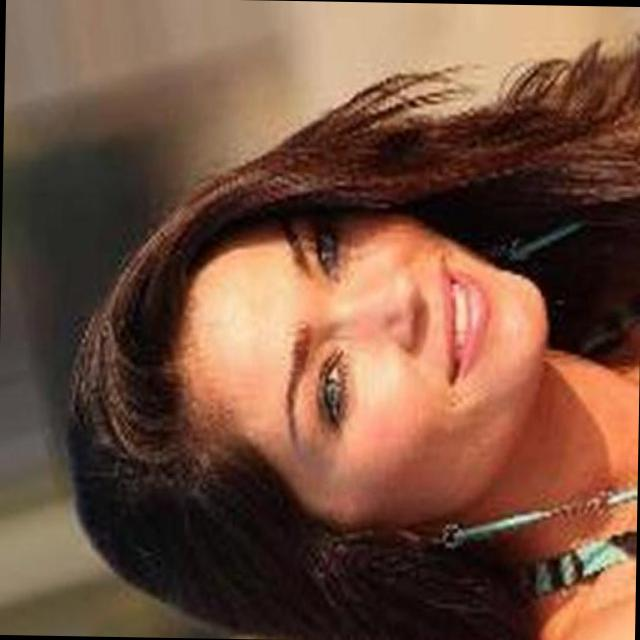bareface: (137, 199, 554, 572)
